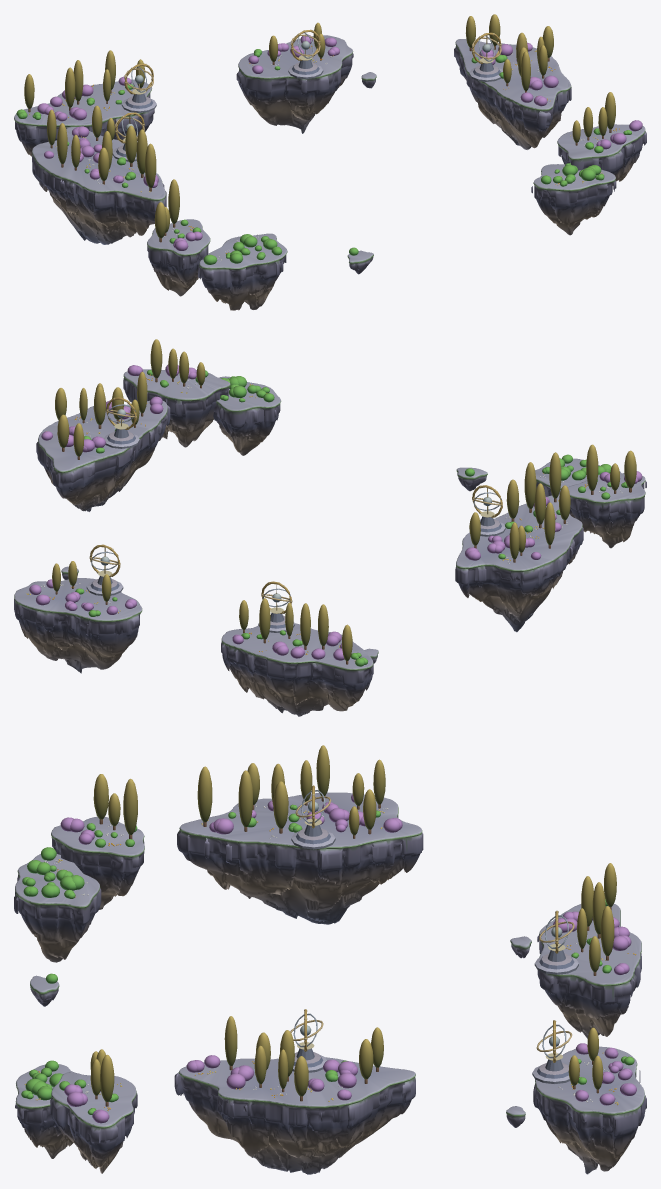
File: moonwell.glb
3 views of the same model, one above another, from view 1: azimuth 30°, elevation 25°; view 2: azimuth 150°, elevation 25°; view 3: azimuth 270°, elevation 25° (orthographic). The views are drawn at different scales.
Visible parts, largest first — view 1: decor_leaves, decor_m06, decor_m01, decor_m07, decor_m03, decor_solid, decor_m00, decor_m04, decor_m04.001, decor_m03.001; view 2: decor_leaves, decor_m00, decor_m06, decor_m01, decor_m07, decor_m03.001, decor_solid, decor_m04.001, decor_m04, decor_m03; view 3: decor_leaves, decor_m06, decor_m07, decor_m01, decor_m00, decor_m03, decor_solid, decor_m03.001, decor_m04.001, decor_m04, decor_s00.
Part boxes in pixels (x1=…): decor_leaves: x1=16, y1=14, x2=642, y2=264; decor_m06: x1=32, y1=126, x2=166, y2=244; decor_m01: x1=236, y1=35, x2=353, y2=133; decor_m07: x1=454, y1=39, x2=571, y2=149; decor_m03: x1=198, y1=233, x2=287, y2=310; decor_solid: x1=112, y1=29, x2=502, y2=161; decor_m00: x1=14, y1=79, x2=154, y2=156; decor_m04: x1=531, y1=164, x2=616, y2=235; decor_m04.001: x1=147, y1=219, x2=210, y2=296; decor_m03.001: x1=557, y1=124, x2=646, y2=185; decor_leaves: x1=29, y1=339, x2=642, y2=666; decor_m00: x1=221, y1=623, x2=373, y2=716; decor_m06: x1=455, y1=494, x2=583, y2=632; decor_m01: x1=14, y1=578, x2=142, y2=673; decor_m07: x1=36, y1=400, x2=170, y2=511; decor_m03.001: x1=123, y1=369, x2=230, y2=447; decor_solid: x1=86, y1=397, x2=505, y2=632; decor_m04.001: x1=568, y1=473, x2=646, y2=548; decor_m04: x1=213, y1=376, x2=281, y2=455; decor_m03: x1=535, y1=458, x2=621, y2=533; decor_leaves: x1=21, y1=745, x2=636, y2=1123; decor_m06: x1=177, y1=792, x2=423, y2=924; decor_m07: x1=174, y1=1057, x2=415, y2=1174; decor_m01: x1=533, y1=1046, x2=646, y2=1174; decor_m00: x1=537, y1=904, x2=641, y2=1038; decor_m03: x1=14, y1=854, x2=101, y2=962; decor_solid: x1=290, y1=785, x2=578, y2=1083; decor_m03.001: x1=50, y1=1072, x2=137, y2=1173; decor_m04.001: x1=51, y1=816, x2=144, y2=909; decor_m04: x1=15, y1=1064, x2=74, y2=1158; decor_s00: x1=30, y1=975, x2=59, y2=1006.
Bounding box in the file's own units: 37.05 × 12.18 × 31.49.
